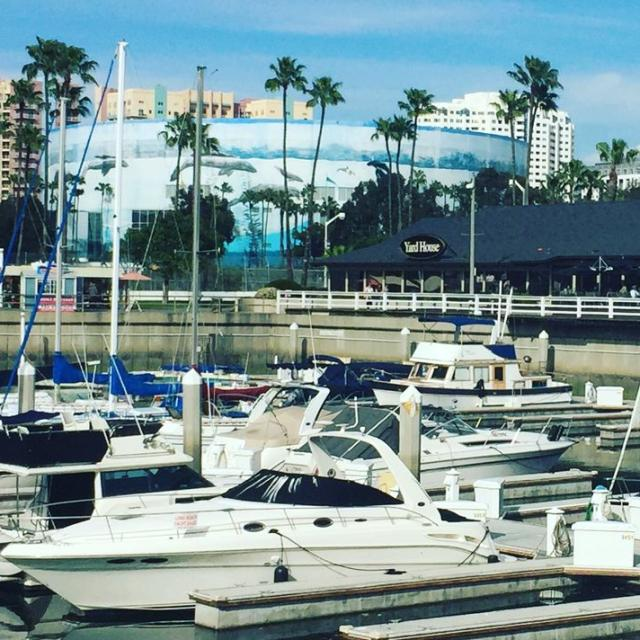houseboat: (29, 456, 581, 627)
passenger ship: (379, 308, 610, 444)
